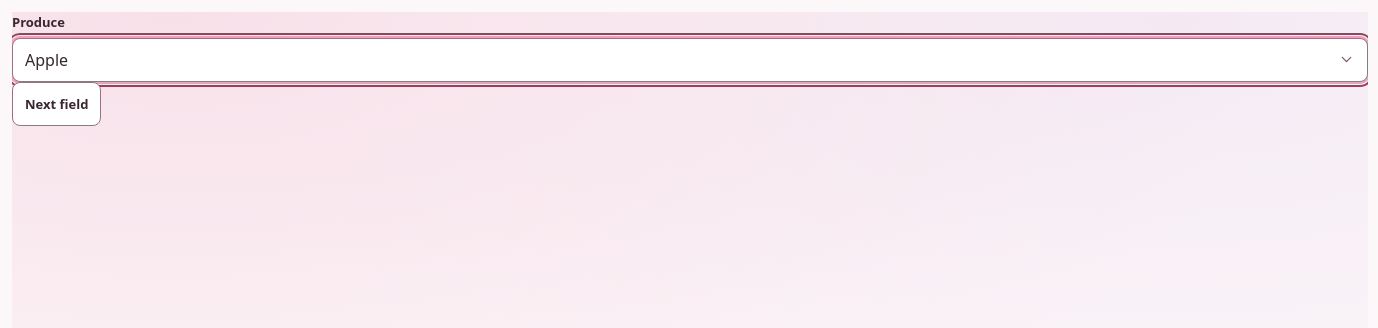
commits a pointer selection and dismisses on outside interaction
Click the dropdown labelled "Apple".
click(47, 60)  # box [12,38,1368,82]
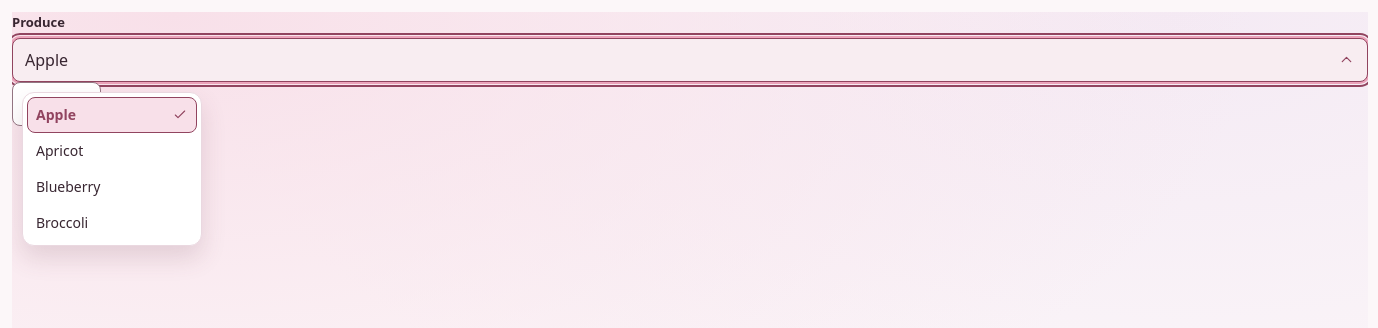
Click the option "Blueberry".
click(68, 186)  # box [36,177,100,196]
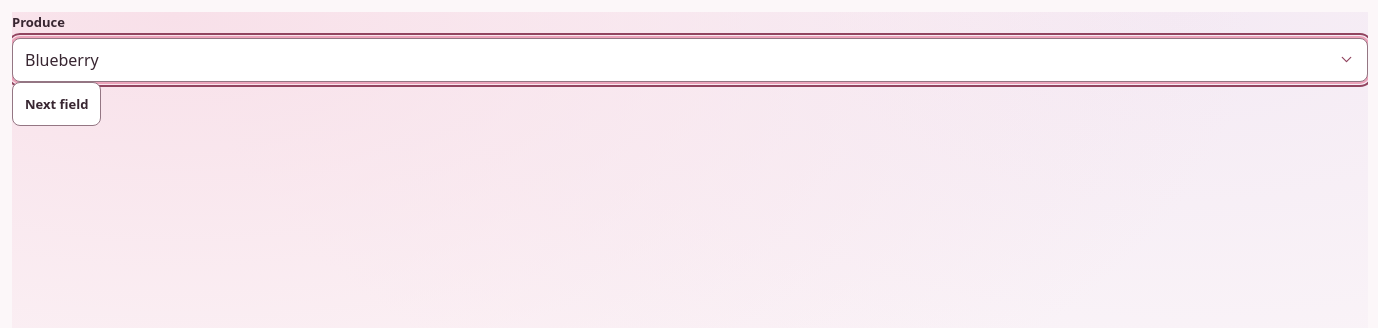
Click the dropdown labelled "Blueberry".
click(62, 60)  # box [12,38,1368,82]
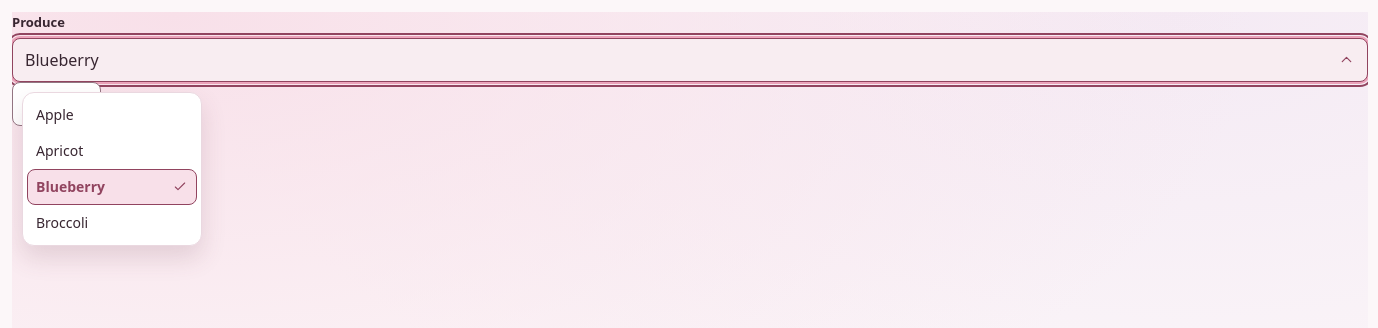
Press the mouse on the element showing "Produce Blueberry Next field" at {"x": 690, "y": 69}, box [12,12,1368,126]
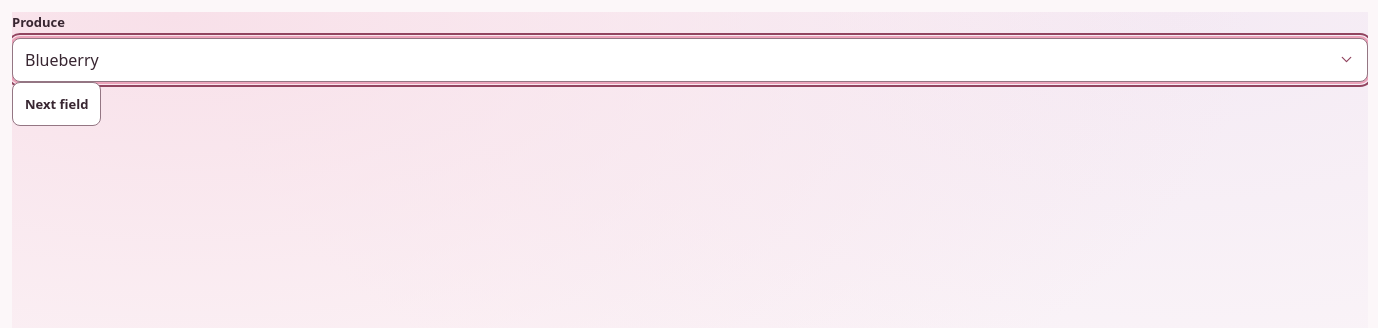
Expected: the dropdown labelled "Blueberry" is collapsed, [12,38,1368,82]
